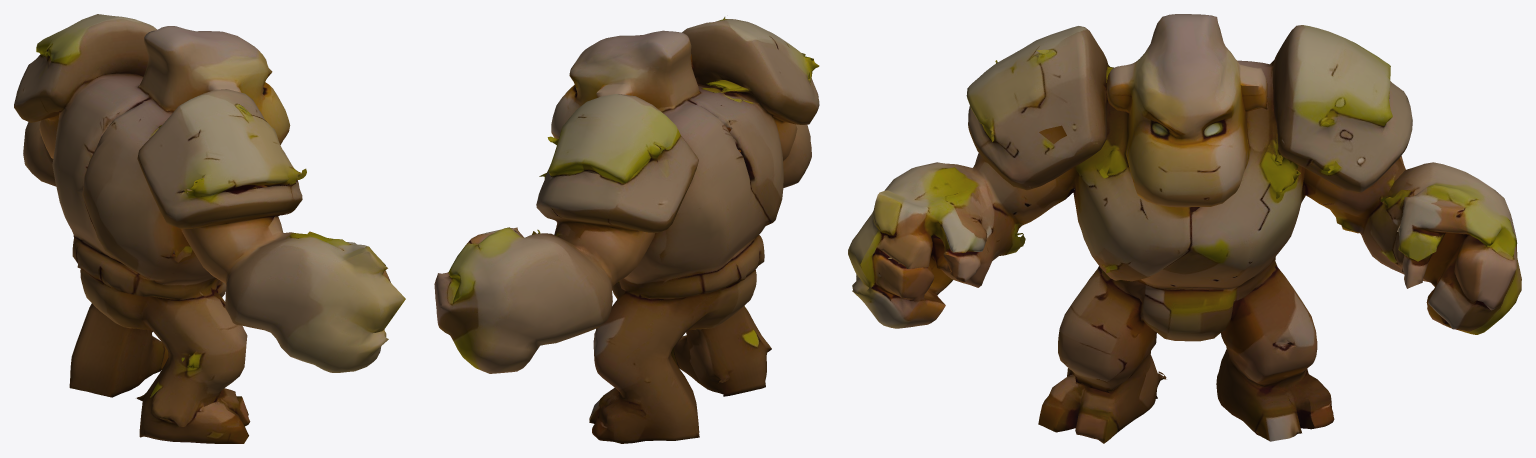
Rendered from monster-brute.glb.
The picture shows the model from 3 angles, left to right: view 1: azimuth 30°, elevation 25°; view 2: azimuth 150°, elevation 25°; view 3: azimuth 270°, elevation 25°; orthographic projection. The views are drawn at different scales.
Parts seen in each view (by area): view 1: tripo_node_87e9e83d-e9ef-49d9-9192-9871cff33d2d; view 2: tripo_node_87e9e83d-e9ef-49d9-9192-9871cff33d2d; view 3: tripo_node_87e9e83d-e9ef-49d9-9192-9871cff33d2d.
Part boxes in pixels (left/top/right/bottom): tripo_node_87e9e83d-e9ef-49d9-9192-9871cff33d2d: left=14, top=14, right=405, bottom=443; tripo_node_87e9e83d-e9ef-49d9-9192-9871cff33d2d: left=434, top=17, right=819, bottom=443; tripo_node_87e9e83d-e9ef-49d9-9192-9871cff33d2d: left=848, top=14, right=1521, bottom=443.
Size of the model in its own units: 0.3759 by 0.6626 by 0.9892.
Materials: 1 (1 with a texture image).
